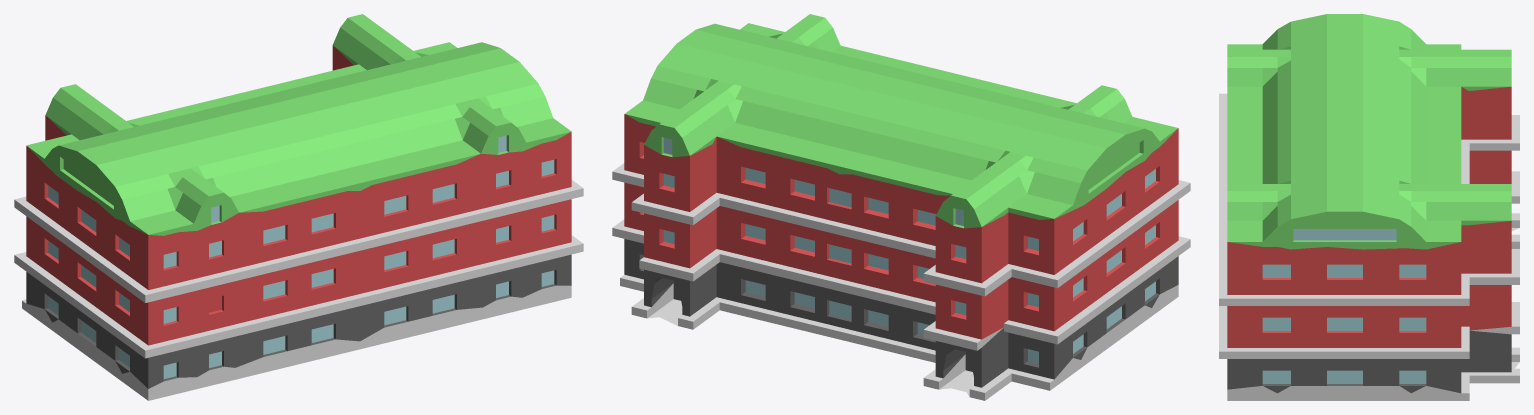
File: MorHouse5_LOD1.fbx
3 views of the same model, side by side, from view 1: azimuth 30°, elevation 25°; view 2: azimuth 150°, elevation 25°; view 3: azimuth 270°, elevation 25° (orthographic). The views are drawn at different scales.
Visible parts, largest first — view 1: Cube.001; view 2: Cube.001; view 3: Cube.001.
Part boxes in pixels (box(x1,y1,x2,y2)): Cube.001: box(14, 14, 583, 400); Cube.001: box(612, 14, 1190, 400); Cube.001: box(1219, 14, 1519, 400).
Size of the model in its own units: 5800 by 2500 by 3600.
